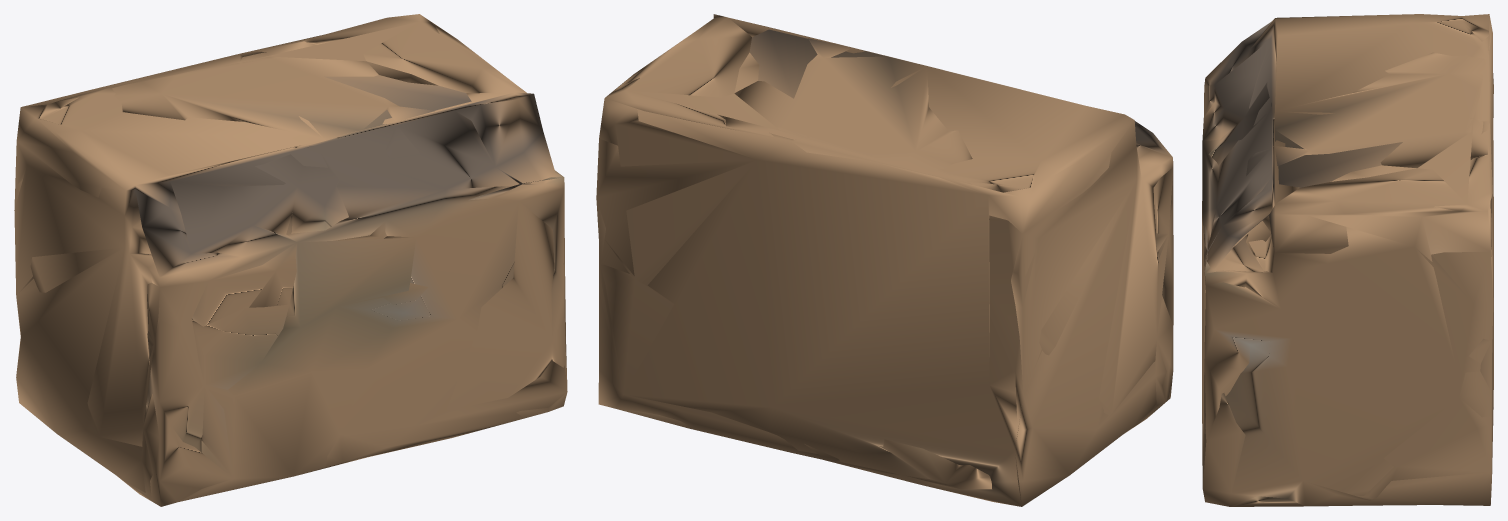
The model's file is gen3d-sealed-letter-lod0.glb.
3 renders of one model, left to right at view 1: azimuth 30°, elevation 25°; view 2: azimuth 150°, elevation 25°; view 3: azimuth 270°, elevation 25°, orthographic. The views are drawn at different scales.
Parts seen in each view (by area): view 1: part_0; view 2: part_0; view 3: part_0.
Part boxes in pixels (x1,y1,x2,y2): part_0: [14, 14, 567, 506]; part_0: [596, 14, 1173, 506]; part_0: [1202, 14, 1493, 506].
Bounding box in the file's own units: 1.42 × 0.9997 × 0.8781.
